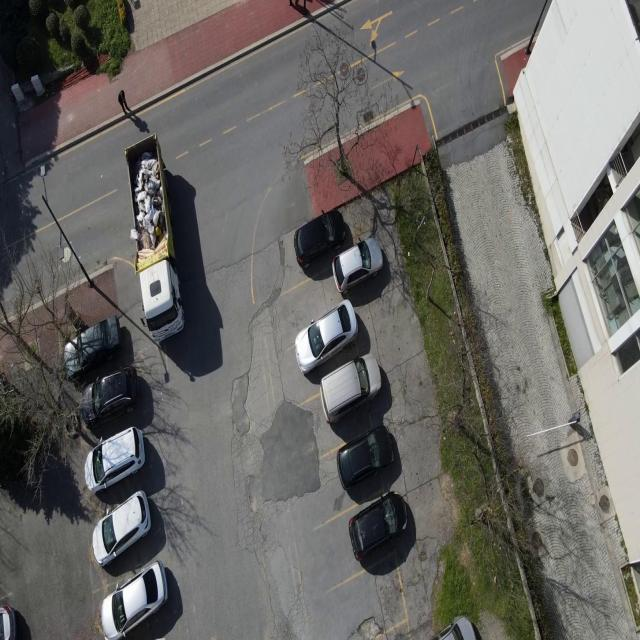p3rson: (118, 87, 130, 118)
